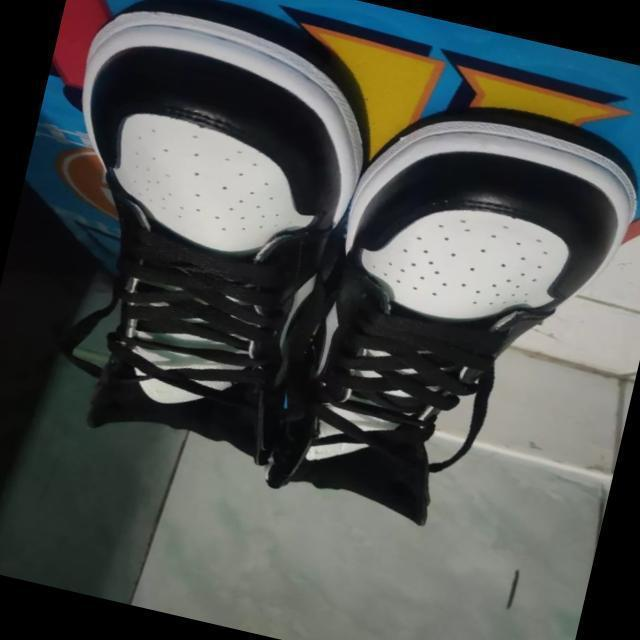nike fake jordan 1: (0, 0, 392, 485), (264, 74, 640, 554)
